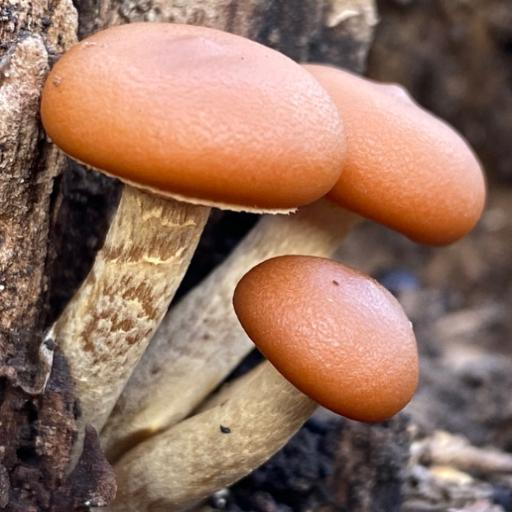mushroom: (24, 17, 493, 463)
